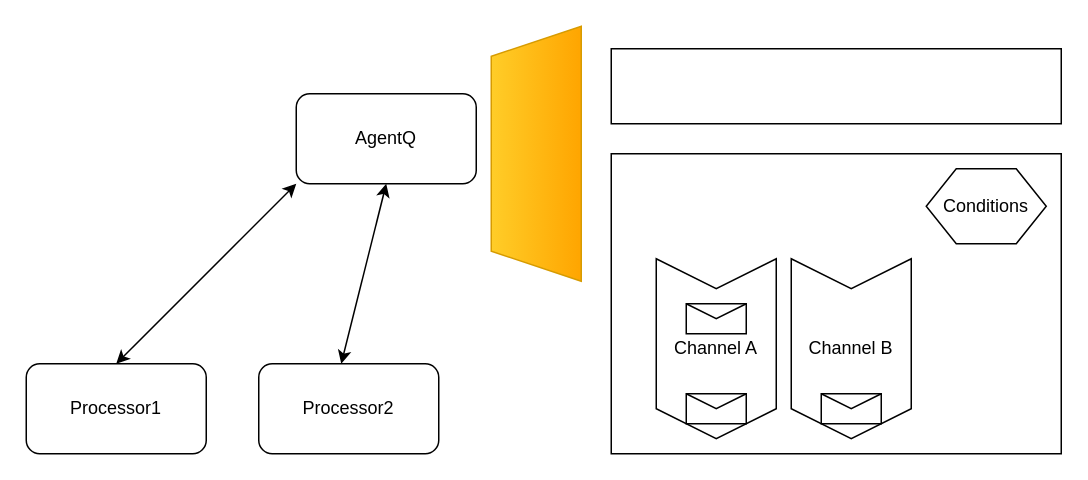
Some shapes in this 1088 by 480 pixel diagram are drawn without their labels. The box of each missing label's shape, as (x1, y1, x2, y2) in pixels:
Agent1: (610, 47, 1061, 124)
Agent2: (610, 152, 1061, 454)
Postbox: (490, 25, 581, 281)
